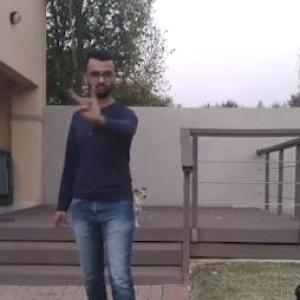takeoff-hand: (65, 82, 110, 128)
